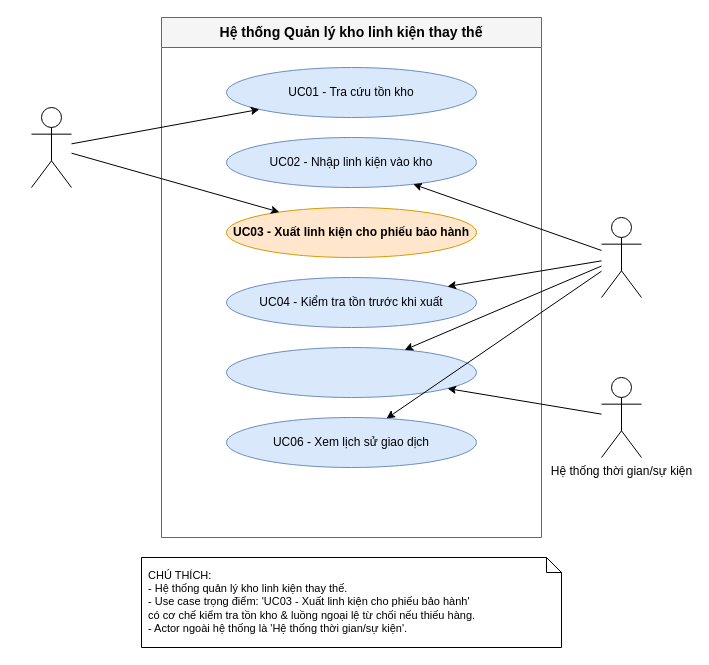
The diagram is 709 pixels wide and 665 high, and some of its shapes have lost their labels. The centre of each missing label's shape, as x and y in pixels:
Kỹ thuật viên: (x=51, y=147)
Quản lý trung tâm: (x=621, y=257)
UC05 - Cảnh báo tồn dưới ngưỡng: (x=351, y=372)
